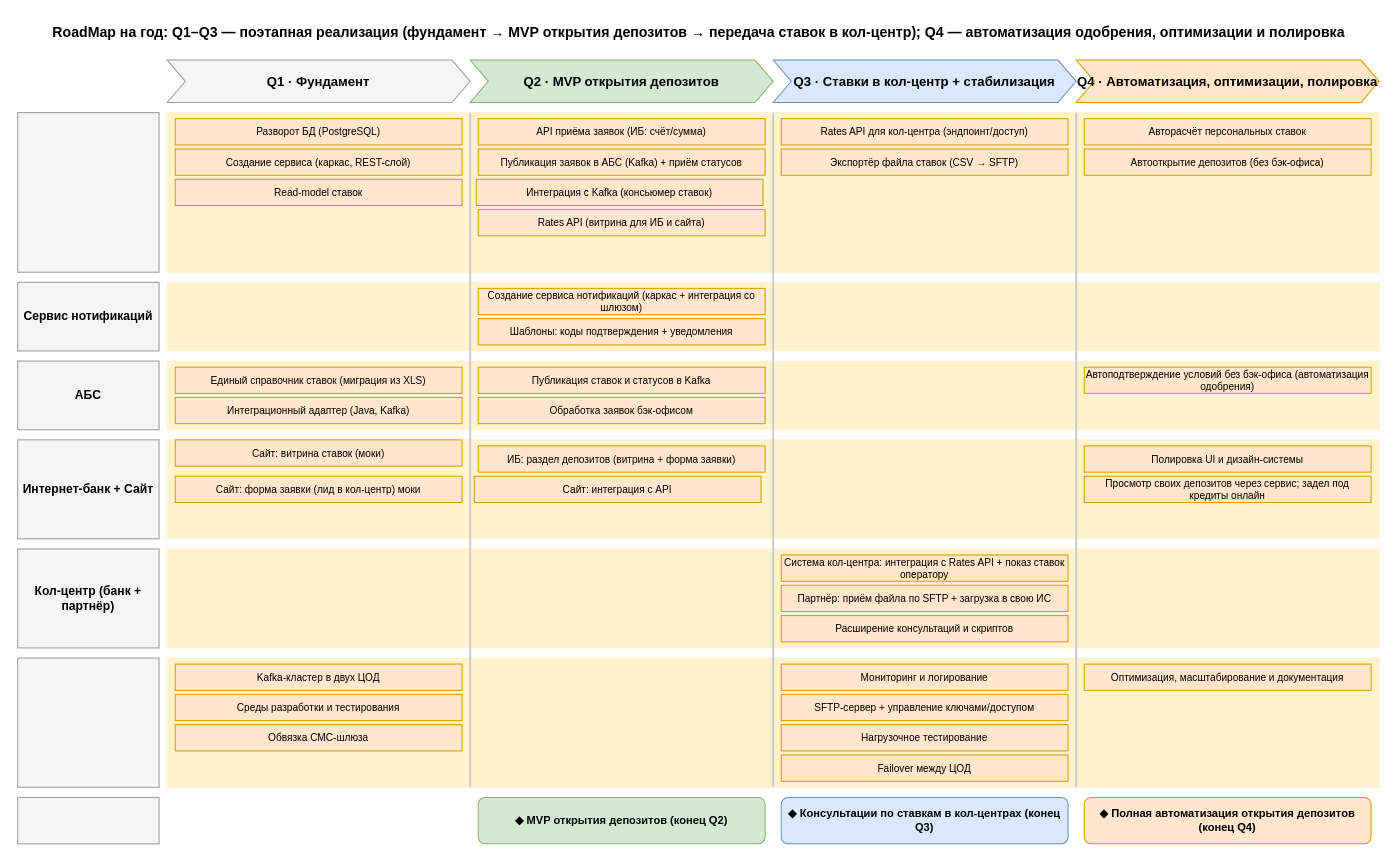
This 1397x862 diagram has some shape labels left out. The shapes that lost their labels are listed below. From the top down, each one's centre as x and y in pixels, then its label:
pixel 88 192: Депозитный сервис
pixel 88 722: Инфраструктура / IT
pixel 88 820: Вехи
